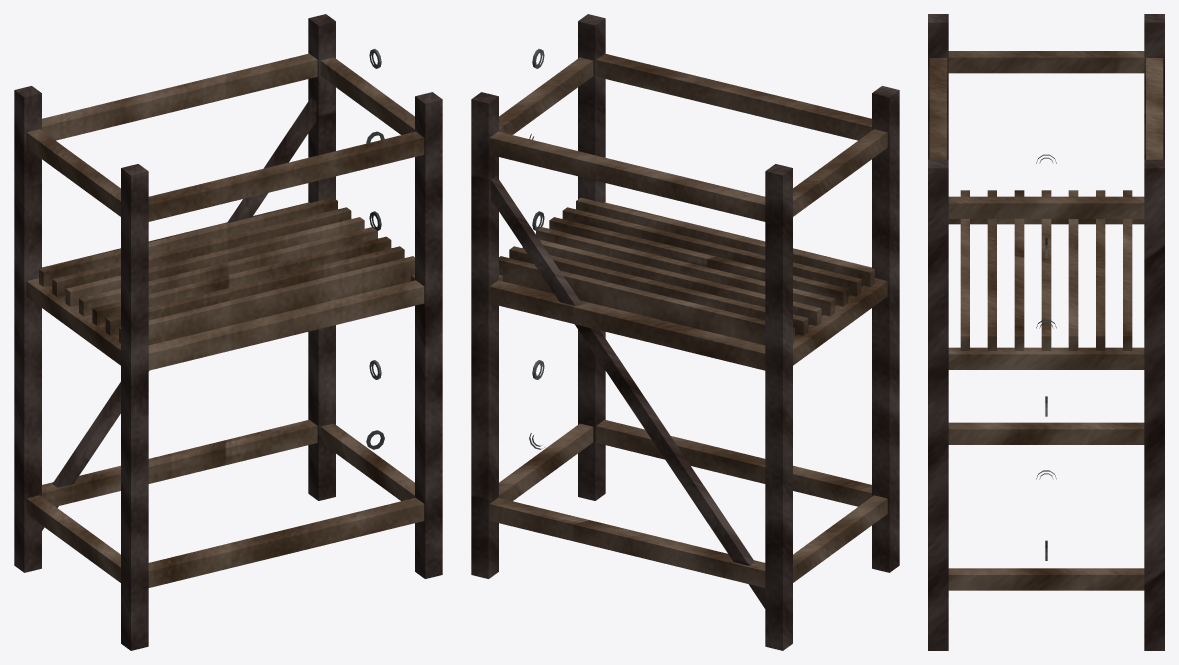
The model's file is 0436_scaffolding_11.glb.
3 renders of one model, left to right at view 1: azimuth 30°, elevation 25°; view 2: azimuth 150°, elevation 25°; view 3: azimuth 270°, elevation 25°, orthographic.
Parts seen in each view (by area): view 1: wood, wood_dark, iron; view 2: wood, wood_dark; view 3: wood, wood_dark, iron.
Boxes of the visible parts, <box> form: wood: <box>26,53,424,587</box>; wood_dark: <box>14,14,442,650</box>; iron: <box>366,49,384,449</box>; wood: <box>489,53,887,587</box>; wood_dark: <box>471,14,899,650</box>; wood: <box>929,51,1163,590</box>; wood_dark: <box>928,14,1164,650</box>; iron: <box>1036,154,1056,560</box>.
Bounding box in the file's own units: 2.32 × 3.44 × 1.5.
3 materials, 3 textured.
